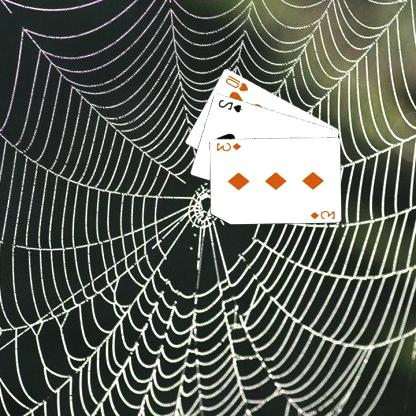10H: (225, 72, 251, 92)
2S: (218, 96, 245, 113)
3D: (309, 207, 338, 221), (215, 140, 244, 152)
